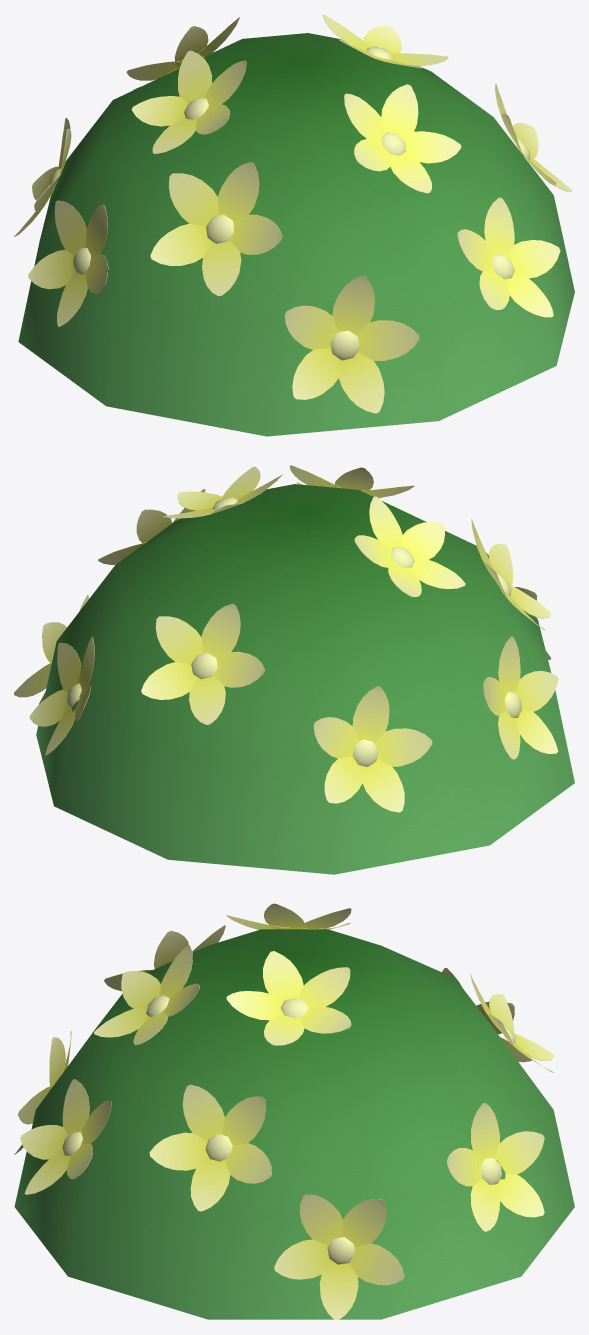
File: Bush_Yellow.fbx
The picture shows the model from 3 angles, top to bottom: view 1: azimuth 30°, elevation 25°; view 2: azimuth 150°, elevation 25°; view 3: azimuth 270°, elevation 25°; orthographic projection. The views are drawn at different scales.
Parts seen in each view (by area): view 1: pasted__Bush, pasted__Plane.017Shape3, pasted__Plane.017Shape2, pasted__Flower3, pasted__Flower4, pasted__Flower1, pasted__Flower, pasted__Flower2, pasted__Plane.017Shape4, pasted__Flower5, pasted__Plane.017Shape1; view 2: pasted__Bush, pasted__Plane.017Shape1, pasted__Plane.017Shape4, pasted__Flower1, pasted__Flower, pasted__Plane.017Shape5, pasted__Flower2, pasted__Plane.017Shape2, pasted__Flower3, pasted__Flower6, pasted__Flower5; view 3: pasted__Bush, pasted__Flower6, pasted__Flower5, pasted__Plane.017Shape5, pasted__Flower2, pasted__Flower4, pasted__Flower3, pasted__Flower1, pasted__Plane.017Shape4, pasted__Plane.017Shape2, pasted__Plane.017Shape3, pasted__Plane.017Shape1.
Boxes of the visible parts, x1=… form: pasted__Bush: x1=18, y1=33, x2=574, y2=436; pasted__Plane.017Shape3: x1=284, y1=276, x2=419, y2=413; pasted__Plane.017Shape2: x1=150, y1=162, x2=282, y2=296; pasted__Flower3: x1=344, y1=84, x2=461, y2=193; pasted__Flower4: x1=457, y1=197, x2=560, y2=317; pasted__Flower1: x1=132, y1=50, x2=246, y2=153; pasted__Flower: x1=28, y1=200, x2=108, y2=326; pasted__Flower2: x1=322, y1=14, x2=448, y2=68; pasted__Plane.017Shape4: x1=126, y1=17, x2=239, y2=89; pasted__Flower5: x1=495, y1=83, x2=571, y2=191; pasted__Plane.017Shape1: x1=14, y1=117, x2=71, y2=236; pasted__Bush: x1=36, y1=484, x2=574, y2=874; pasted__Plane.017Shape1: x1=313, y1=686, x2=432, y2=812; pasted__Plane.017Shape4: x1=141, y1=603, x2=264, y2=724; pasted__Flower1: x1=354, y1=496, x2=465, y2=597; pasted__Flower: x1=483, y1=636, x2=558, y2=759; pasted__Plane.017Shape5: x1=29, y1=637, x2=94, y2=755; pasted__Flower2: x1=161, y1=466, x2=282, y2=518; pasted__Plane.017Shape2: x1=471, y1=519, x2=551, y2=630; pasted__Flower3: x1=289, y1=465, x2=414, y2=498; pasted__Flower6: x1=14, y1=595, x2=89, y2=704; pasted__Flower5: x1=98, y1=488, x2=205, y2=564; pasted__Bush: x1=14, y1=929, x2=574, y2=1319; pasted__Flower6: x1=274, y1=1194, x2=404, y2=1320; pasted__Flower5: x1=149, y1=1084, x2=271, y2=1211; pasted__Plane.017Shape5: x1=447, y1=1103, x2=544, y2=1231; pasted__Flower2: x1=226, y1=951, x2=351, y2=1045; pasted__Flower4: x1=20, y1=1079, x2=111, y2=1194; pasted__Flower3: x1=94, y1=945, x2=199, y2=1045; pasted__Flower1: x1=226, y1=903, x2=351, y2=929; pasted__Plane.017Shape4: x1=470, y1=974, x2=554, y2=1072; pasted__Plane.017Shape2: x1=104, y1=925, x2=225, y2=991; pasted__Plane.017Shape3: x1=14, y1=1030, x2=71, y2=1154; pasted__Plane.017Shape1: x1=442, y1=968, x2=531, y2=1062.
Bounding box in the file's own units: 204 × 108 × 200.
